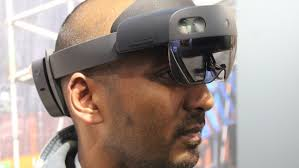hololens: (30, 1, 241, 117)
